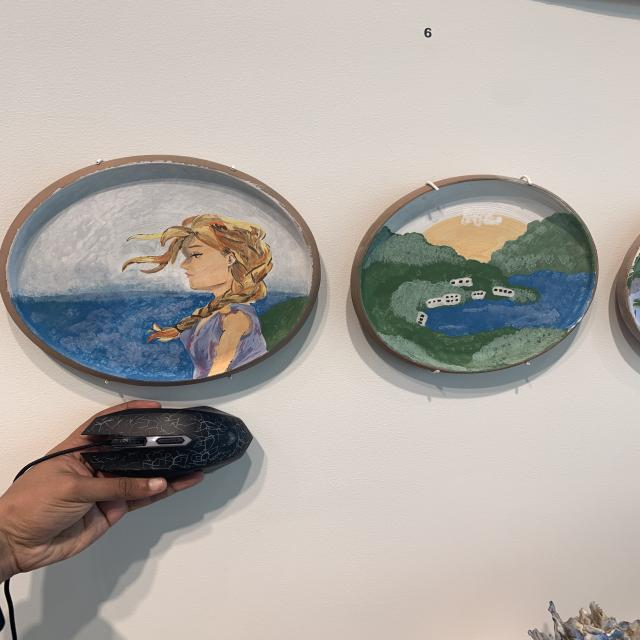Mouse: (66, 400, 264, 498)
